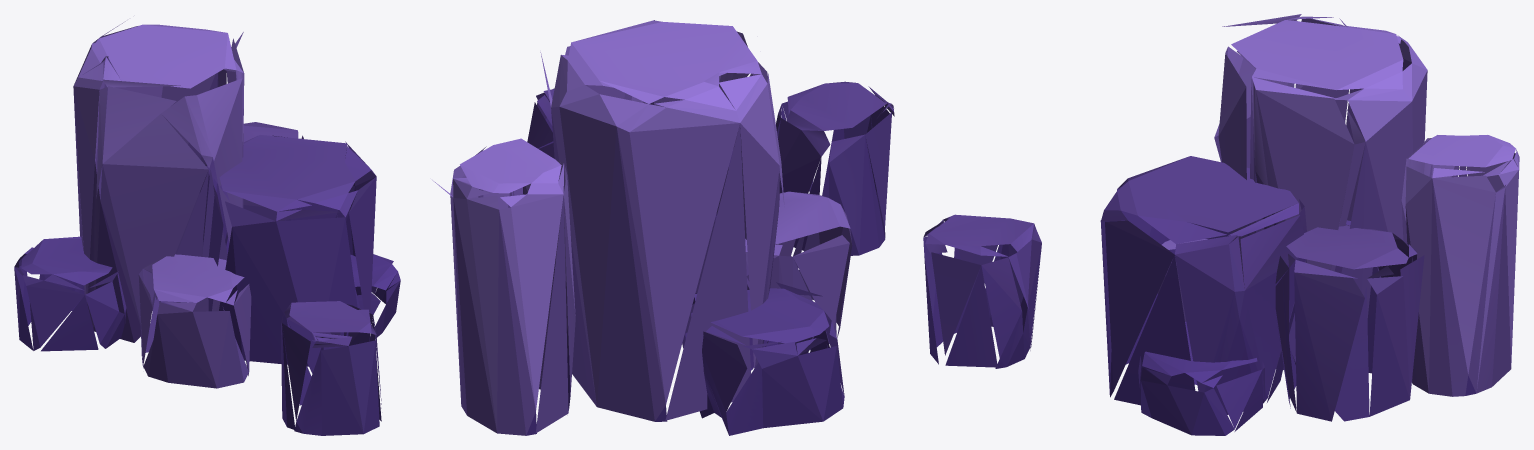
File: angular_rock_stack_low.glb
The picture shows the model from 3 angles, left to right: view 1: azimuth 30°, elevation 25°; view 2: azimuth 150°, elevation 25°; view 3: azimuth 270°, elevation 25°; orthographic projection. The views are drawn at different scales.
Bounding box in the file's own units: 1.68 × 1.44 × 2.42.
